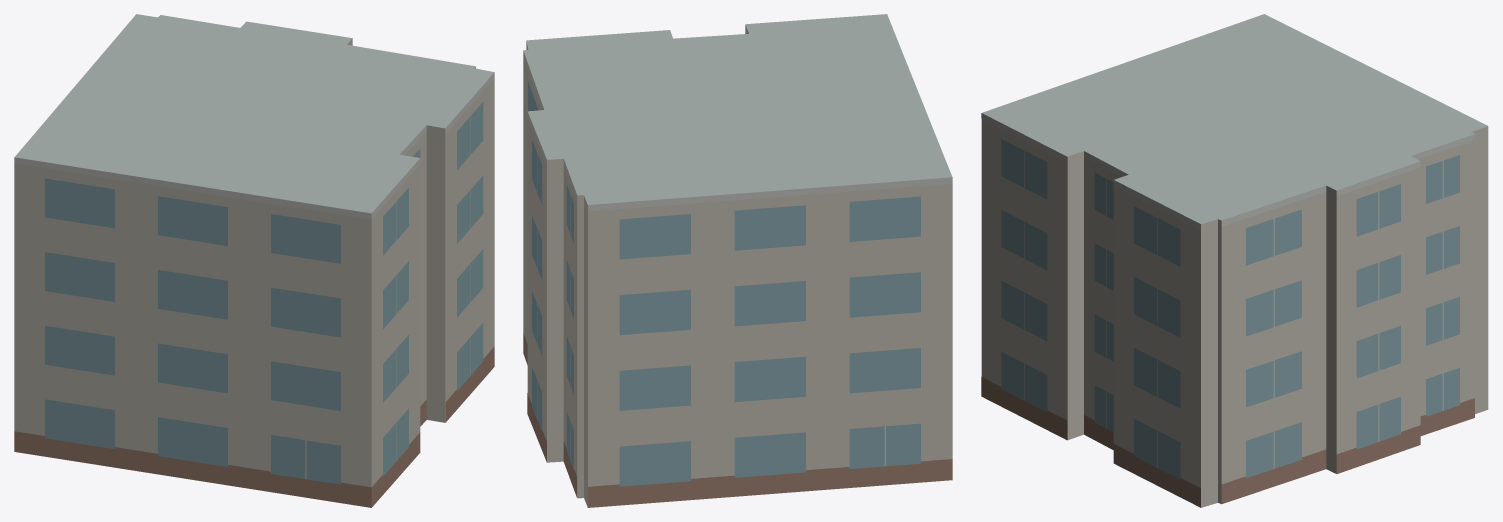
Rendered from survey-upis-32694110.glb.
3 views of the same model, side by side, from view 1: azimuth 30°, elevation 25°; view 2: azimuth 150°, elevation 25°; view 3: azimuth 270°, elevation 25° (orthographic). The views are drawn at different scales.
Parts seen in each view (by area): view 1: survey-upis-32694110.tmp; view 2: survey-upis-32694110.tmp; view 3: survey-upis-32694110.tmp.
Part boxes in pixels (x1,y1,x2,y2): survey-upis-32694110.tmp: (14,14,494,507); survey-upis-32694110.tmp: (523,14,952,507); survey-upis-32694110.tmp: (981,14,1488,507).
Size of the model in its own units: 18.61 by 11.7 by 18.96.
